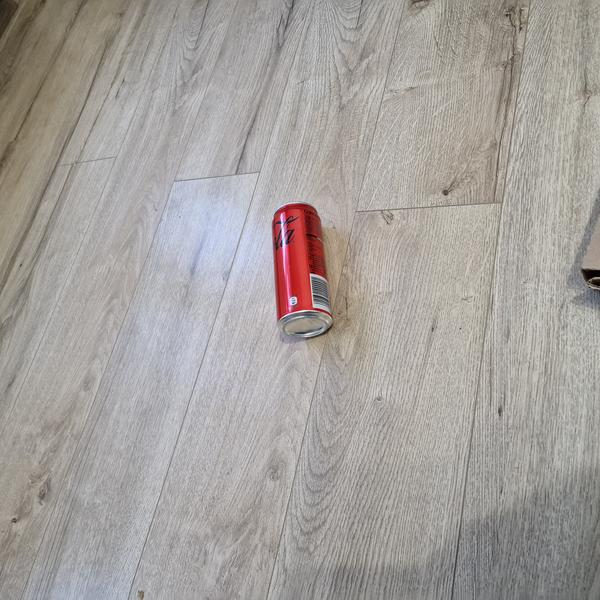can: (270, 200, 335, 341)
